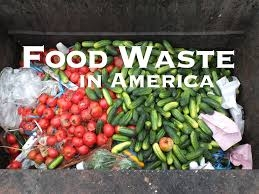kitchen_waste: (163, 123, 182, 144), (44, 155, 69, 169), (197, 118, 215, 136), (171, 143, 187, 163), (182, 148, 208, 160), (158, 134, 175, 152), (148, 106, 160, 131), (56, 96, 75, 111), (151, 141, 165, 161), (81, 130, 97, 147), (59, 112, 76, 128), (134, 112, 147, 132), (121, 90, 134, 110), (90, 105, 106, 121), (62, 143, 77, 160), (100, 87, 114, 105), (189, 129, 200, 151), (183, 114, 199, 129), (163, 100, 181, 113), (5, 158, 24, 170), (112, 38, 134, 48), (155, 63, 175, 74), (56, 69, 70, 84), (171, 107, 185, 122), (188, 97, 198, 118), (93, 38, 112, 49), (6, 142, 22, 155), (104, 44, 120, 57), (132, 87, 154, 96), (73, 125, 87, 139), (41, 106, 55, 120), (83, 86, 97, 100), (101, 122, 114, 137), (154, 97, 177, 105), (44, 134, 58, 147), (95, 132, 107, 147), (80, 38, 98, 48), (4, 133, 18, 145), (25, 148, 37, 162), (69, 114, 83, 126), (45, 147, 60, 158), (68, 71, 81, 83), (112, 57, 125, 68), (32, 153, 45, 163), (158, 90, 172, 98)
plastic: (1, 64, 64, 131), (213, 73, 250, 131), (200, 109, 245, 152), (228, 140, 254, 169)
